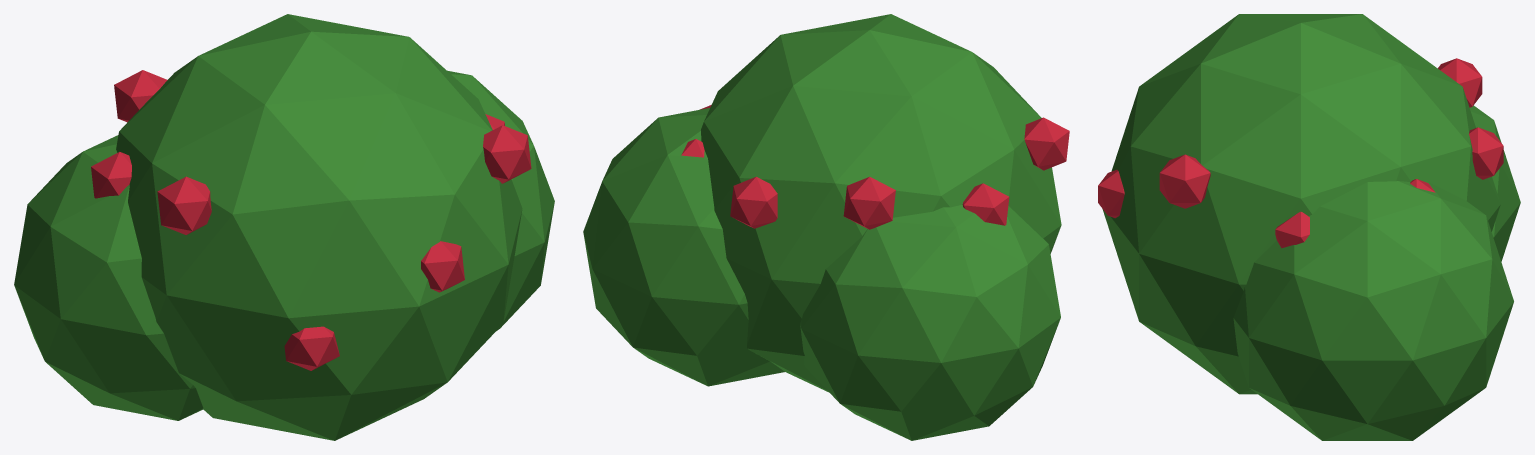
Rendered from berry_bush.glb.
3 views of the same model, side by side, from view 1: azimuth 30°, elevation 25°; view 2: azimuth 150°, elevation 25°; view 3: azimuth 270°, elevation 25° (orthographic). The views are drawn at different scales.
Visible parts, largest first — view 1: leaves1, berry; view 2: leaves1, berry; view 3: leaves1, berry.
Part boxes in pixels (x1=…): leaves1: x1=14, y1=14, x2=554, y2=440; berry: x1=91, y1=70, x2=531, y2=370; leaves1: x1=583, y1=14, x2=1061, y2=440; berry: x1=681, y1=105, x2=1069, y2=229; leaves1: x1=1102, y1=14, x2=1520, y2=440; berry: x1=1098, y1=58, x2=1503, y2=248.
Bounding box in the file's own units: 0.779 × 0.6 × 0.6342.
